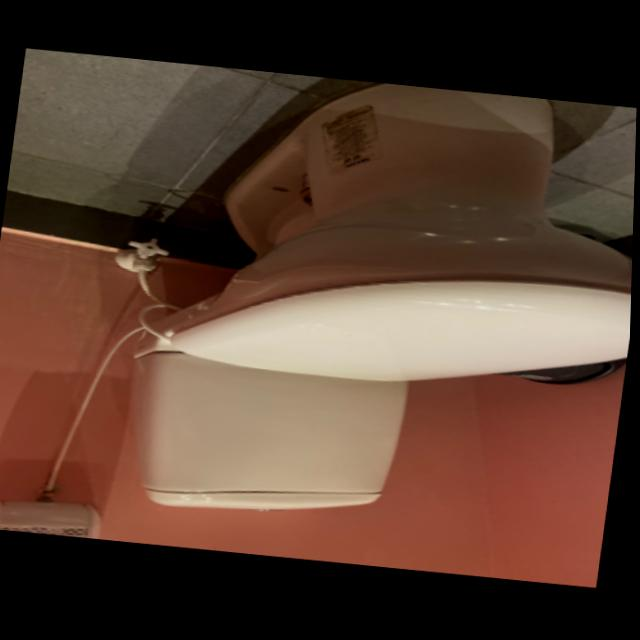toilet: (112, 60, 639, 552)
